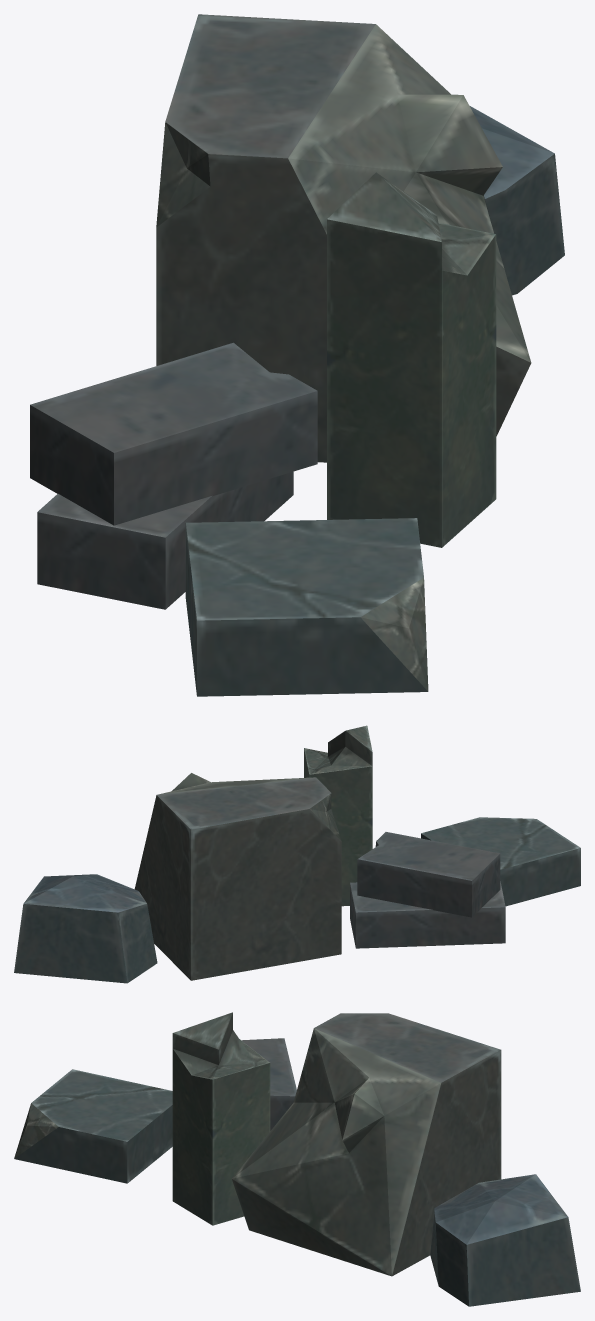
Rendered from jg_shidui02.fbx.
The picture shows the model from 3 angles, top to bottom: view 1: azimuth 30°, elevation 25°; view 2: azimuth 150°, elevation 25°; view 3: azimuth 270°, elevation 25°; orthographic projection. The views are drawn at different scales.
Parts seen in each view (by area): view 1: polySurface26; view 2: polySurface26; view 3: polySurface26.
Boxes of the visible parts, <box> form: polySurface26: <box>30,14,564,696</box>; polySurface26: <box>14,725,580,983</box>; polySurface26: <box>14,1012,580,1306</box>.
Size of the model in its own units: 128 by 56.36 by 155.
